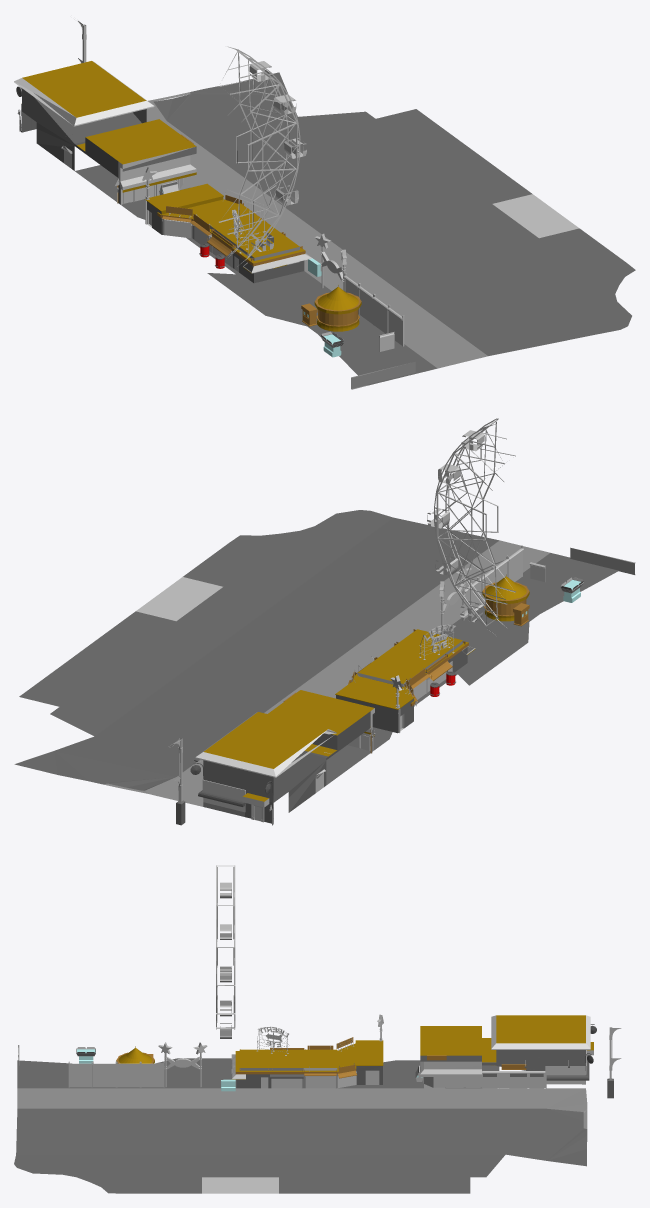
Rendered from brook_s_3.FBX.
The picture shows the model from 3 angles, top to bottom: view 1: azimuth 30°, elevation 25°; view 2: azimuth 150°, elevation 25°; view 3: azimuth 270°, elevation 25°; orthographic projection. The views are drawn at different scales.
Visible parts, largest first — view 1: unnamed; view 2: unnamed; view 3: unnamed.
Part boxes in pixels (x1,y1,x2,y2): unnamed: [14, 19, 635, 389]; unnamed: [14, 418, 635, 825]; unnamed: [14, 865, 621, 1193].
Bounding box in the file's own units: 67.54 × 47.7 × 129.
